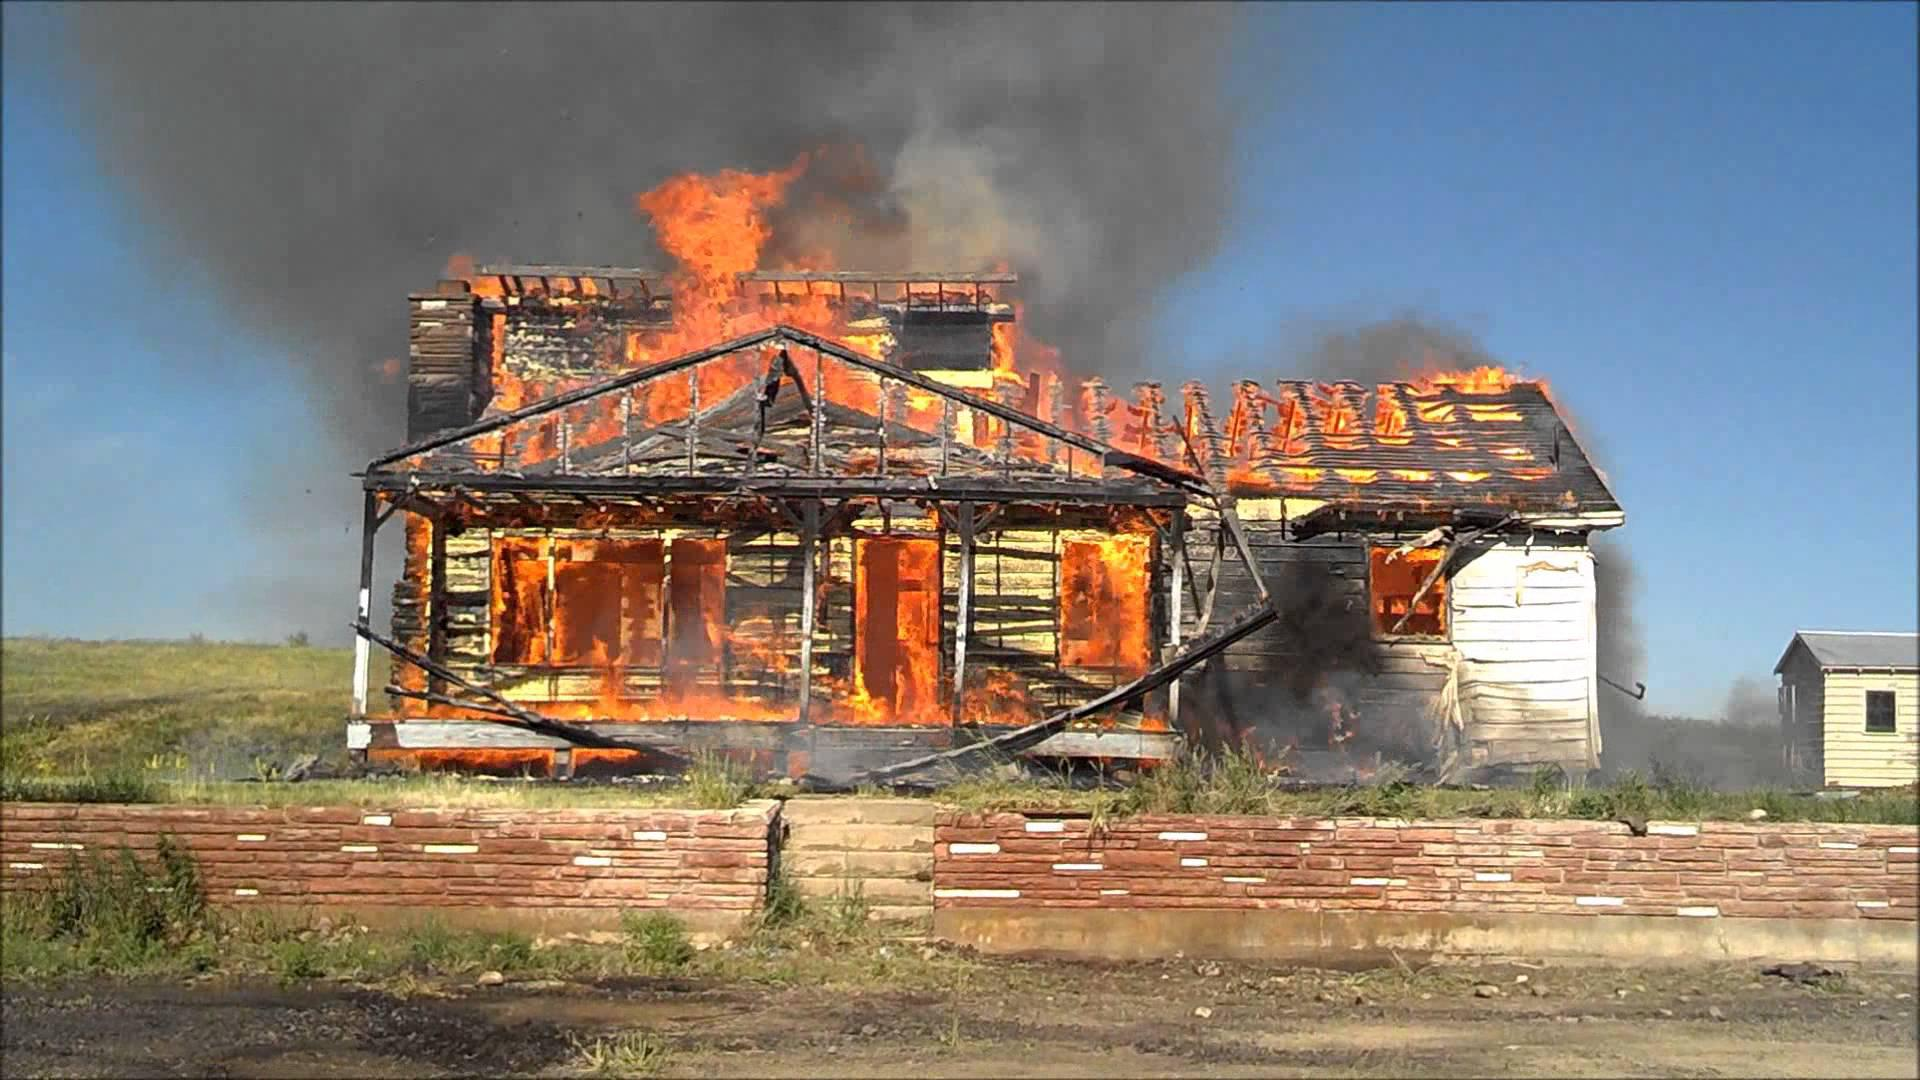fire: (404, 193, 1151, 746)
